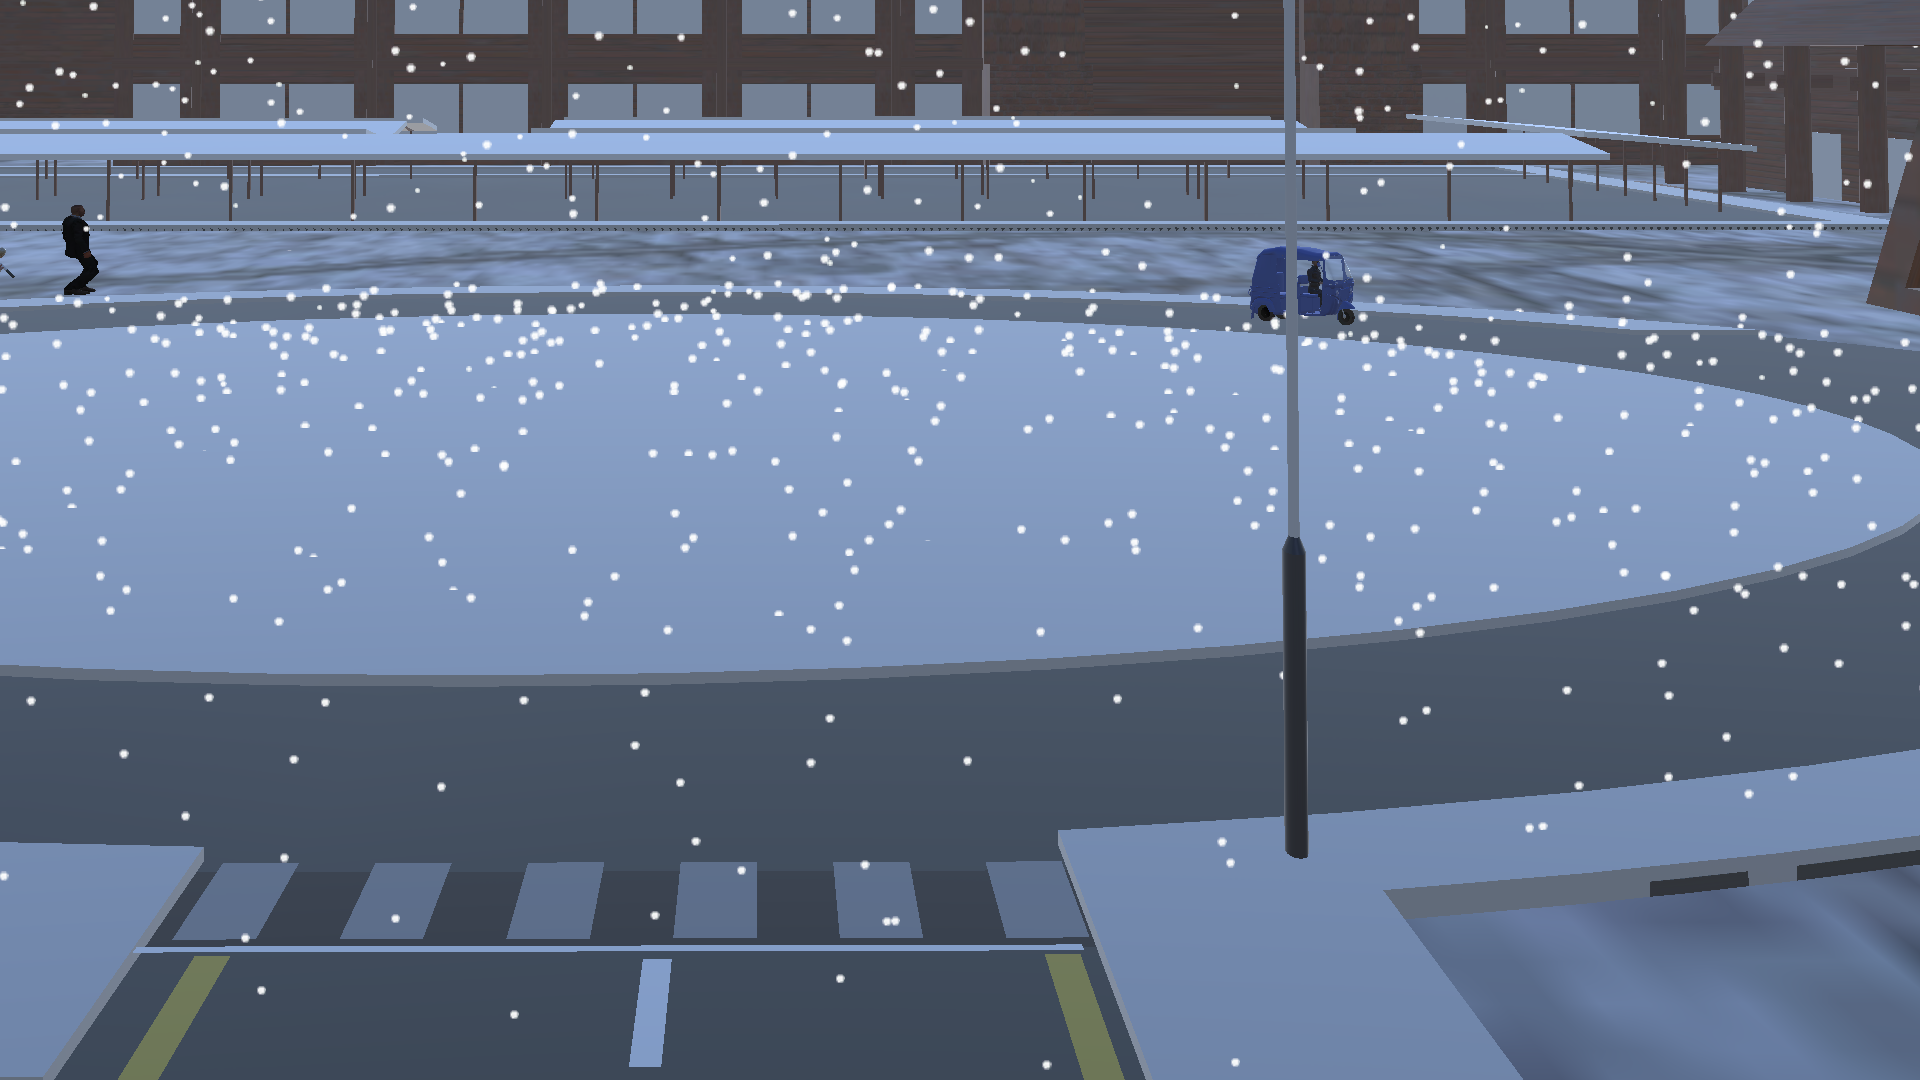pedestrian: (53, 197, 107, 299)
